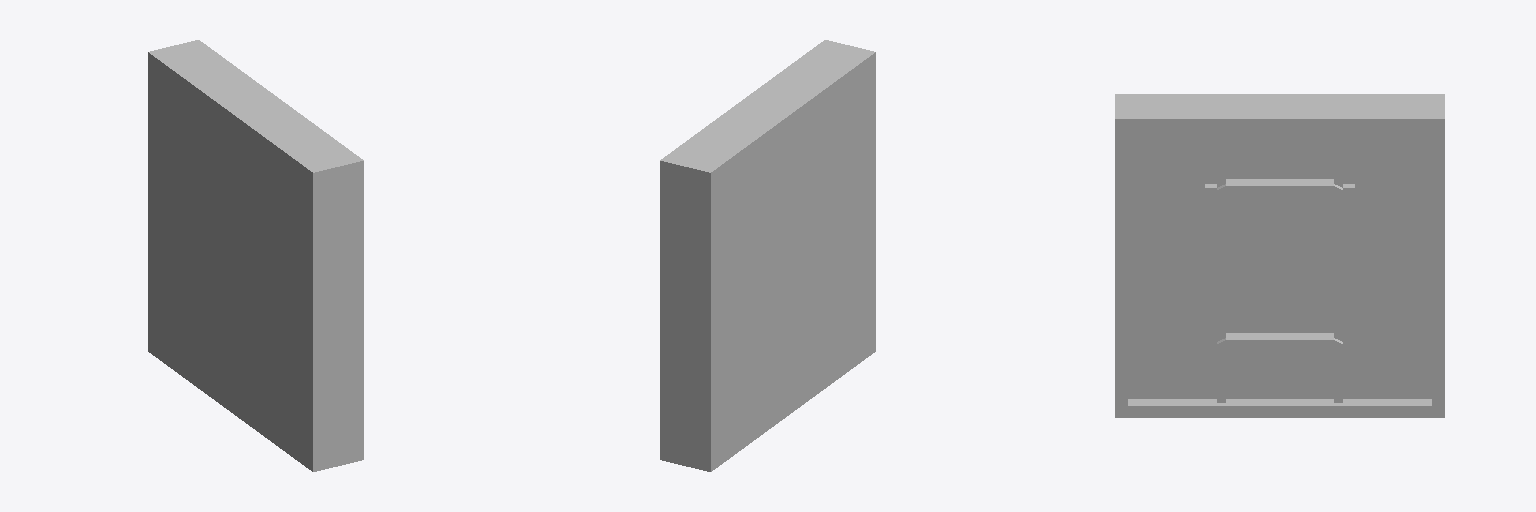
Rendered from window2.obj.
The picture shows the model from 3 angles: view 1: azimuth 30°, elevation 25°; view 2: azimuth 150°, elevation 25°; view 3: azimuth 270°, elevation 25°; orthographic projection.
Parts seen in each view (by area): view 1: Cube1; view 2: Cube1; view 3: Cube1.
Boxes of the visible parts, box(x1,y1,x2,y2) form: Cube1: box(148, 40, 363, 471); Cube1: box(660, 40, 875, 471); Cube1: box(1115, 94, 1444, 417).
Bounding box in the file's own units: 0.386 × 2.17 × 2.17.